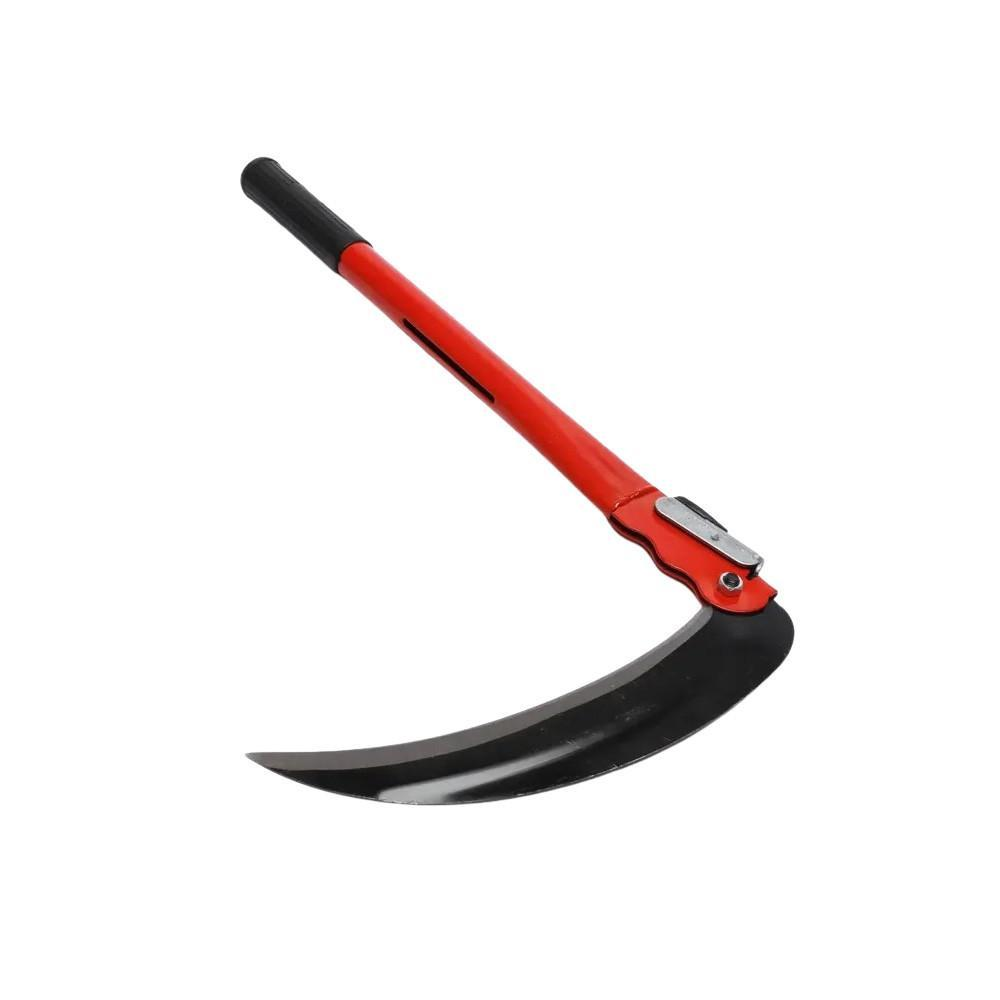foice: (243, 158, 793, 804)
